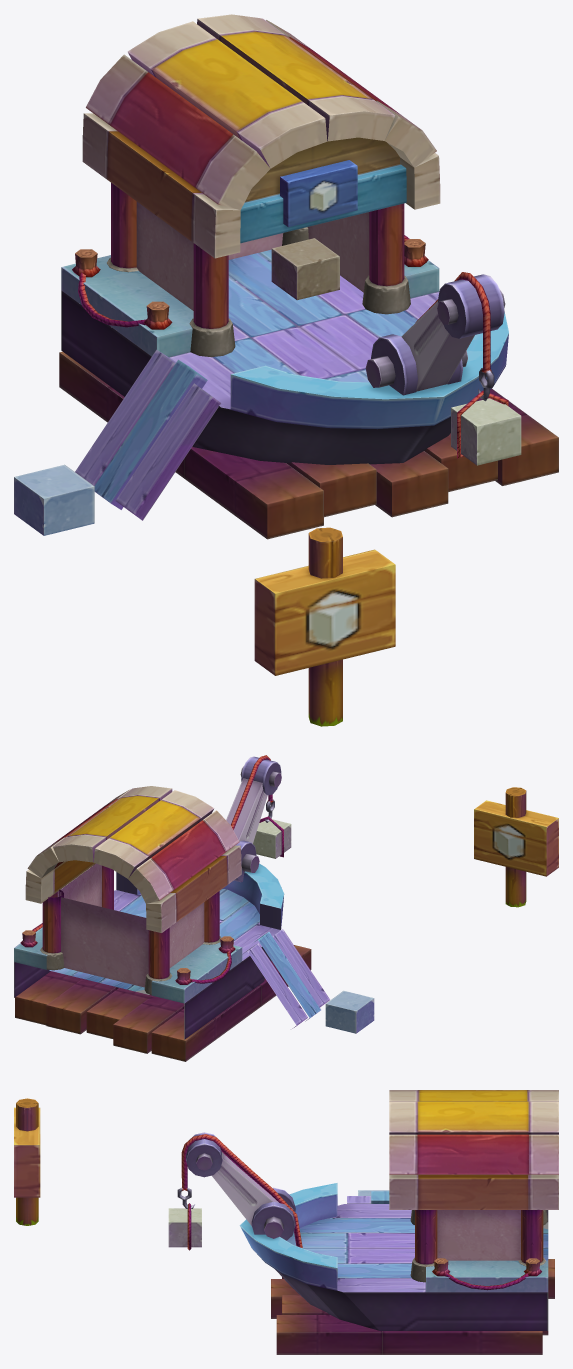
The model's file is scenes_construction_quarry01b.FBX.
3 renders of one model, top to bottom at view 1: azimuth 30°, elevation 25°; view 2: azimuth 150°, elevation 25°; view 3: azimuth 270°, elevation 25°, orthographic. The views are drawn at different scales.
Visible parts, largest first — view 1: scenes_construction_quarry01b; view 2: scenes_construction_quarry01b; view 3: scenes_construction_quarry01b.
Part boxes in pixels (left/top/right/bottom): scenes_construction_quarry01b: left=14, top=14, right=558, bottom=726; scenes_construction_quarry01b: left=14, top=755, right=558, bottom=1061; scenes_construction_quarry01b: left=14, top=1090, right=558, bottom=1354.
Bounding box in the file's own units: 1726 × 1084 × 2534.
